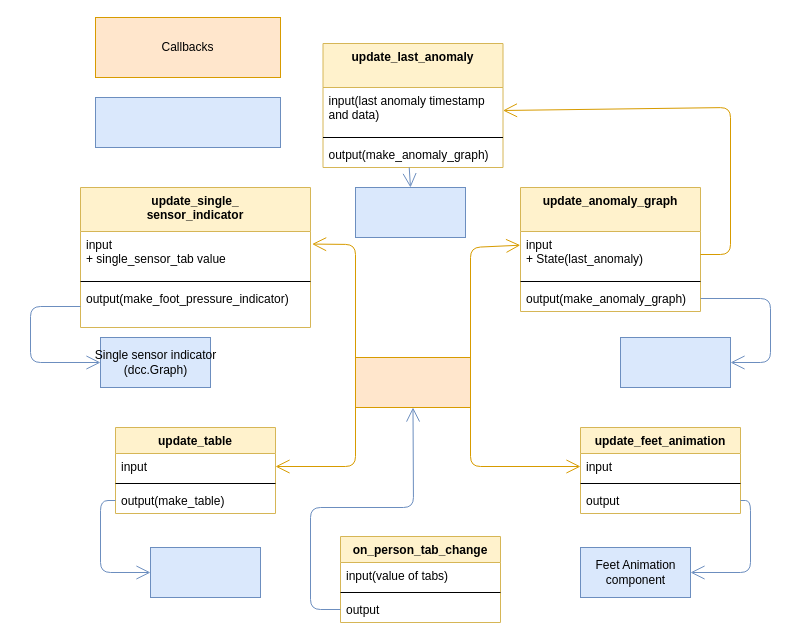
Image size: 802x643. Some labels were removed from this diagram. The shapes that lost their labels are listed below. From the top down, each one's centre as x and y in pixels, then its label:
the point at 187,122: Layout
the point at 410,212: Last anomaly (label)
the point at 412,382: Time Current_id
the point at 675,362: Anomaly graph component
the point at 205,572: Table (dcc.Graph)
